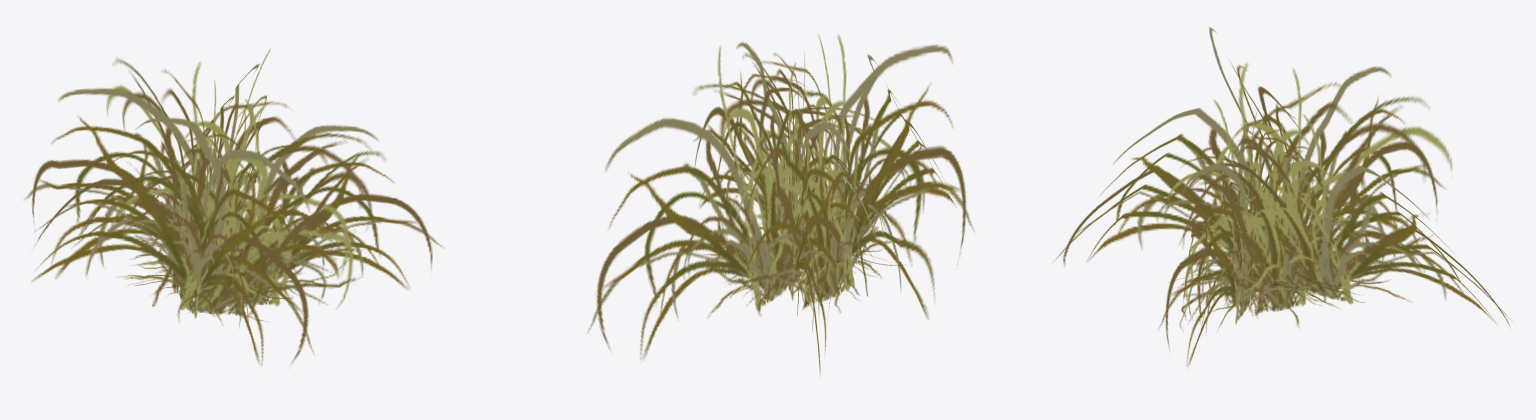
The model's file is grass_dry.gltf.
The picture shows the model from 3 angles, left to right: view 1: azimuth 30°, elevation 25°; view 2: azimuth 150°, elevation 25°; view 3: azimuth 270°, elevation 25°; orthographic projection. The views are drawn at different scales.
Parts seen in each view (by area): view 1: Grass main dry; view 2: Grass main dry; view 3: Grass main dry.
Part boxes in pixels (box(x1,y1,x2,y2)): Grass main dry: box(24, 48, 443, 365); Grass main dry: box(587, 34, 974, 376); Grass main dry: box(1052, 26, 1512, 366).
Size of the model in its own units: 0.3406 by 0.2512 by 0.4127.
1 material, 1 textured.
